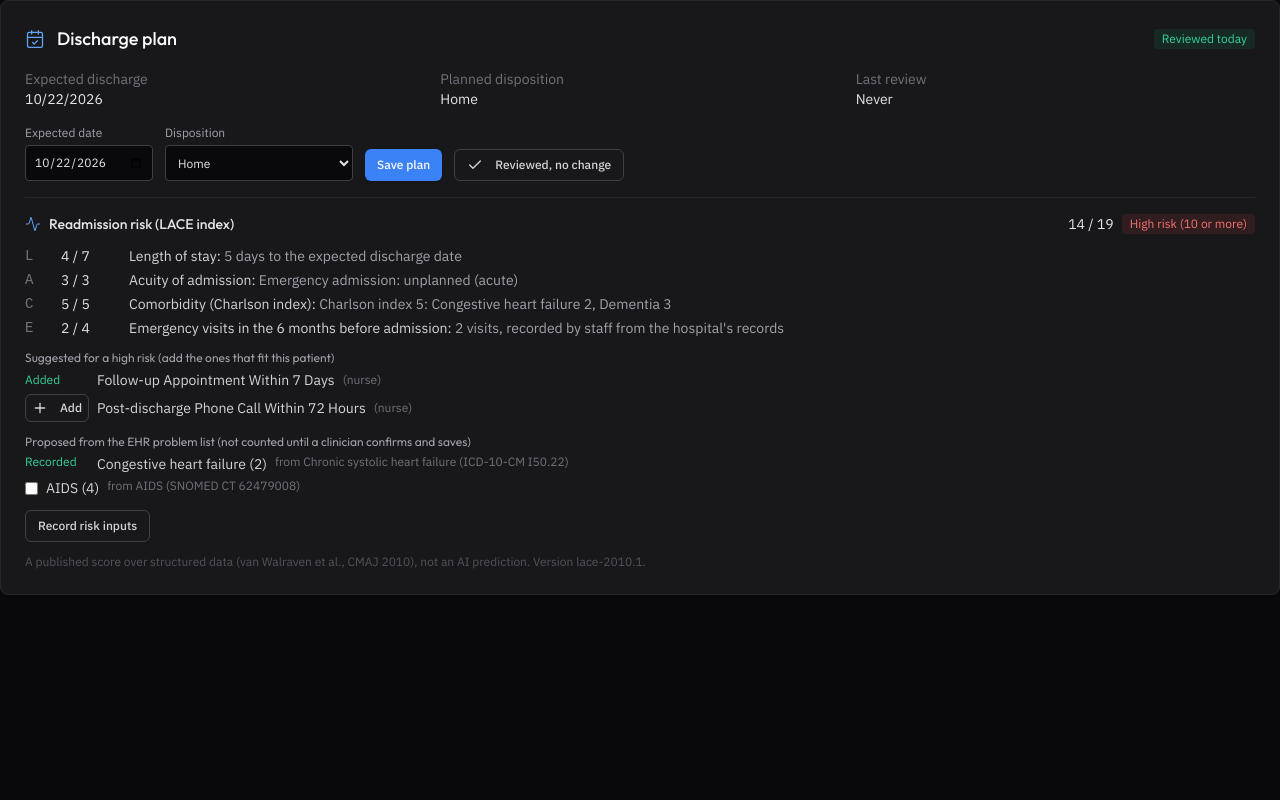
Test: Readmission risk on the discharge plan › cancelling drops an accepted proposal, and no EHR launch means no proposals
Later steps or results of the test are not shown.
Click the checkbox with test id "risk-proposal-accept-aids": x=32, y=488 [25,482,38,495]
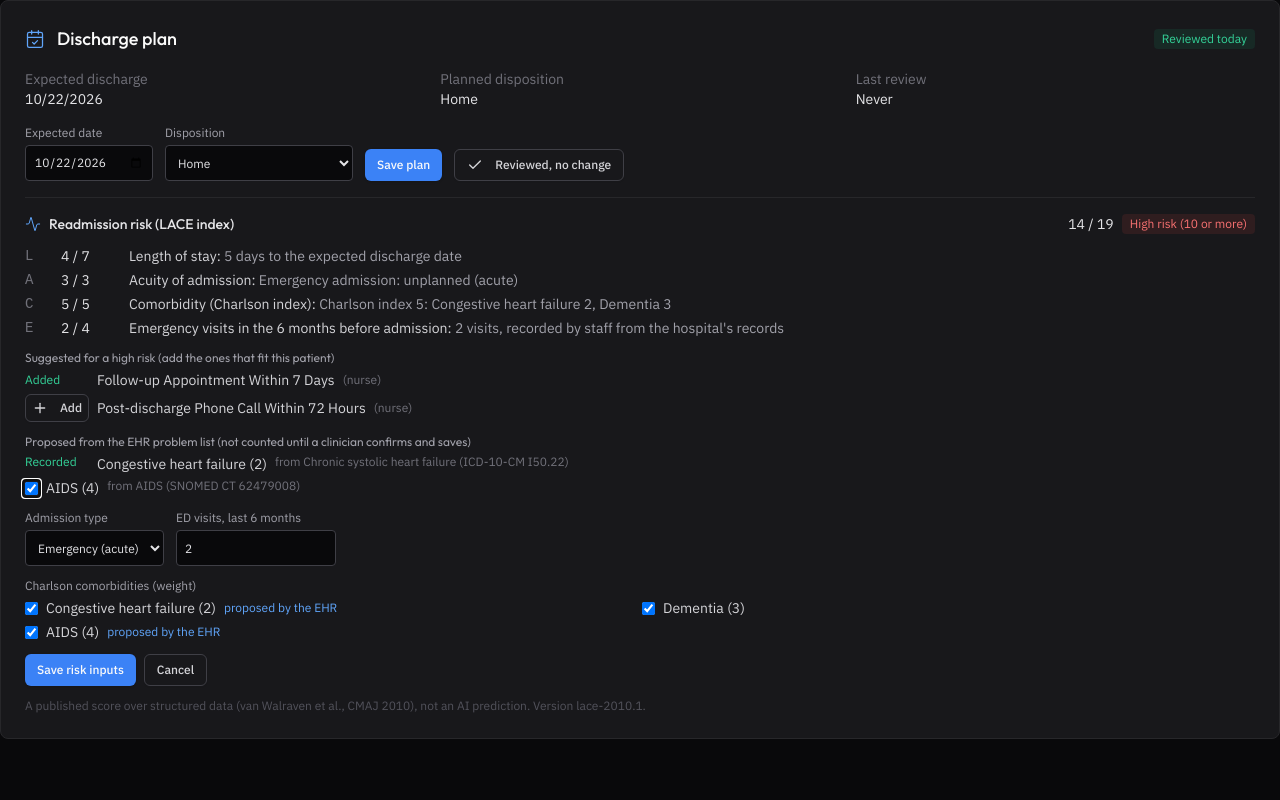
Click the button "Cancel": x=175, y=670 [144,654,207,686]
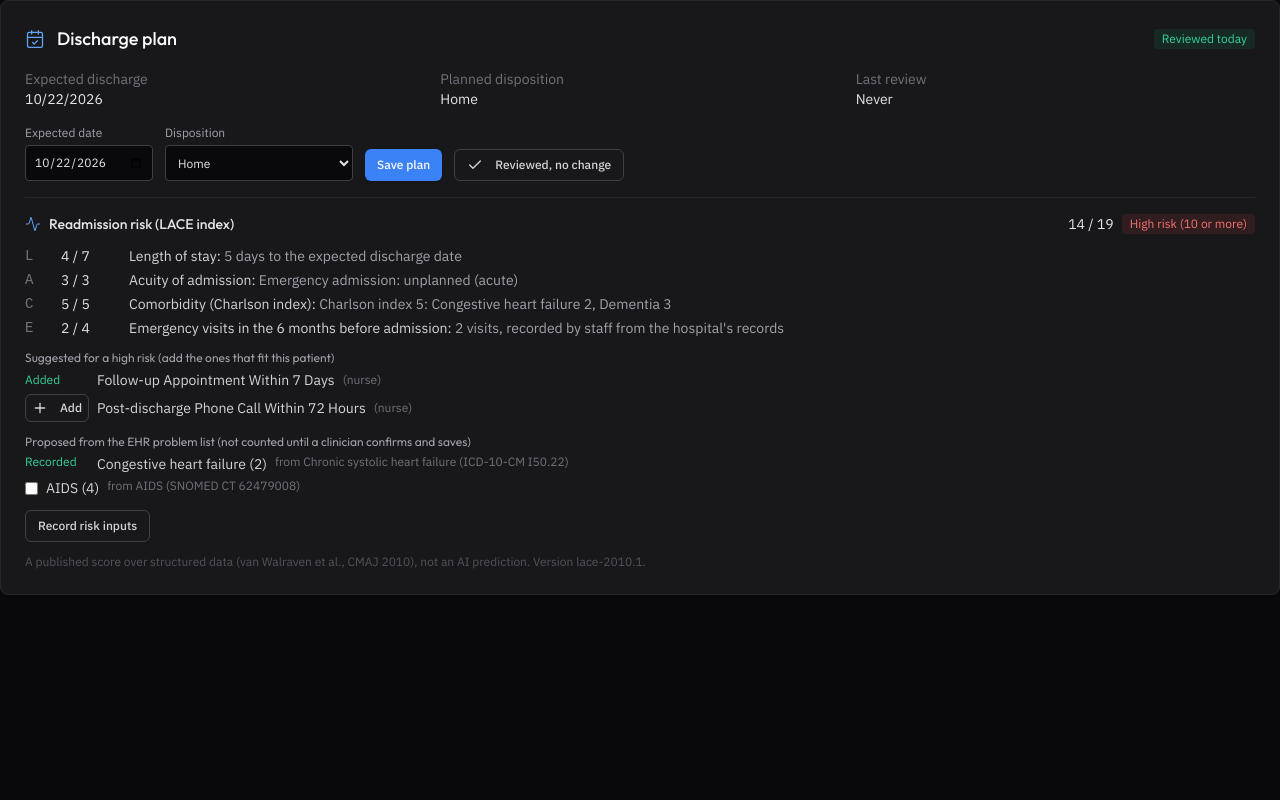
Expected: the checkbox with test id "risk-proposal-accept-aids" is not checked, [25,482,38,495]
